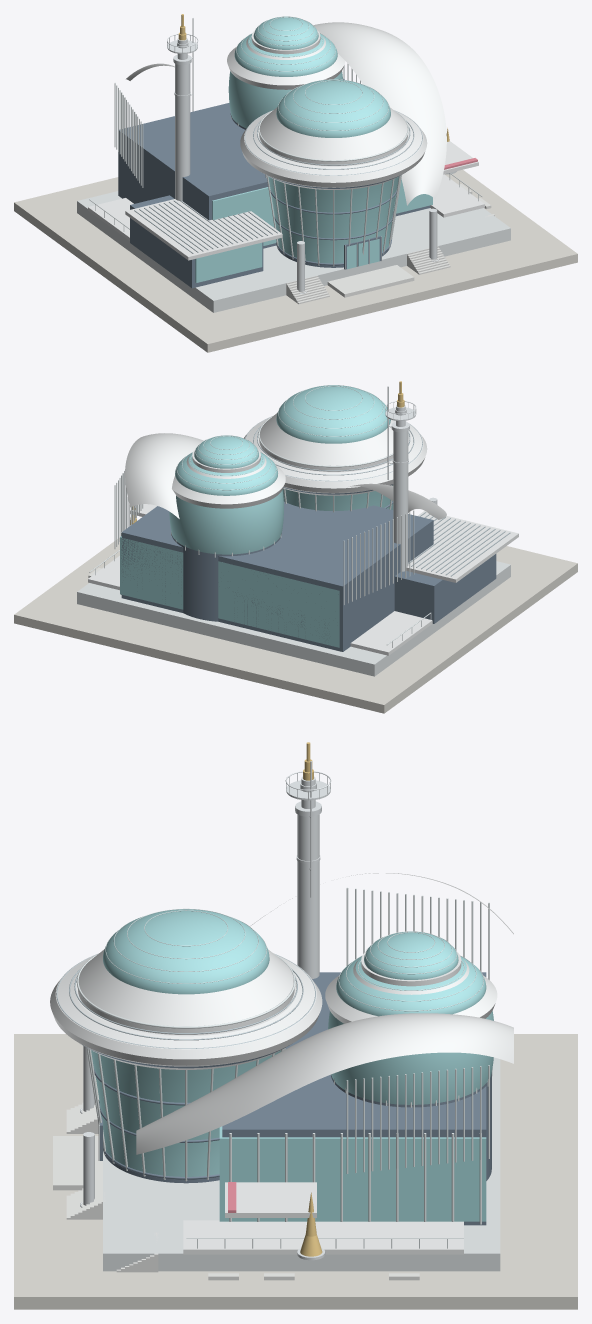
Rendered from bldg.glb.
The picture shows the model from 3 angles, top to bottom: view 1: azimuth 30°, elevation 25°; view 2: azimuth 150°, elevation 25°; view 3: azimuth 270°, elevation 25°; orthographic projection. The views are drawn at different scales.
Parts seen in each view (by area): view 1: Site slab 224 x 203 feet, Main podium, Recessed main building, Sweeping roof wing, Curved atrium glazing, Main glazed dome, Main saucer roof, West cantilever canopy, Main dome white skirt, Rear lower dome, West annex, Side promenade (×2) (+10 smaller); view 2: Site slab 224 x 203 feet, Recessed main building, Main glazed volume, Main podium, Main glazed dome, Rear upper glazing, Sweeping roof wing (×2), Main dome white skirt, West cantilever canopy, Main saucer roof, West annex, Rear drum (+6 smaller); view 3: Site slab 224 x 203 feet, Main glazed volume, Main podium, Sweeping roof wing, Main glazed dome, Main saucer roof, Recessed main building, Curved atrium glazing, Main dome white skirt, Side promenade, Rear upper glazing, Rear lower dome (+9 smaller).
Part boxes in pixels (box(x1,y1,x2,y2)): Site slab 224 x 203 feet: box(14, 169, 577, 352); Main podium: box(77, 191, 510, 312); Recessed main building: box(118, 78, 430, 248); Sweeping roof wing: box(313, 22, 446, 205); Curved atrium glazing: box(268, 176, 398, 263); Main glazed dome: box(276, 79, 390, 137); Main saucer roof: box(240, 111, 427, 189); West cantilever canopy: box(125, 199, 282, 260); Main dome white skirt: box(259, 107, 407, 165); Rear lower dome: box(234, 33, 337, 76); West annex: box(130, 195, 263, 288); Side promenade (×2): box(88, 174, 484, 240); Site slab 224 x 203 feet: box(14, 537, 577, 713); Recessed main building: box(121, 501, 433, 651); Main glazed volume: box(120, 536, 339, 647); Main podium: box(77, 561, 510, 676); Main glazed dome: box(276, 385, 390, 443); Rear upper glazing: box(169, 490, 283, 554); Sweeping roof wing (×2): box(125, 433, 446, 519); Main dome white skirt: box(259, 413, 395, 471); West cantilever canopy: box(406, 510, 518, 582); Main saucer roof: box(244, 417, 427, 495); West annex: box(394, 554, 496, 623); Rear drum: box(171, 533, 281, 621); Site slab 224 x 203 feet: box(14, 1034, 577, 1309); Main glazed volume: box(219, 1126, 486, 1221); Main podium: box(103, 1057, 500, 1271); Sweeping roof wing: box(136, 1013, 513, 1154); Main glazed dome: box(103, 909, 269, 994); Main saucer roof: box(50, 955, 322, 1069); Recessed main building: box(222, 972, 486, 1225); Curved atrium glazing: box(91, 1050, 281, 1176); Main dome white skirt: box(78, 949, 294, 1034); Side promenade: box(183, 1220, 463, 1254); Rear upper glazing: box(328, 1011, 493, 1104); Rear lower dome: box(336, 956, 486, 1016).
Size of the model in its own units: 68.28 by 43.28 by 61.87.
